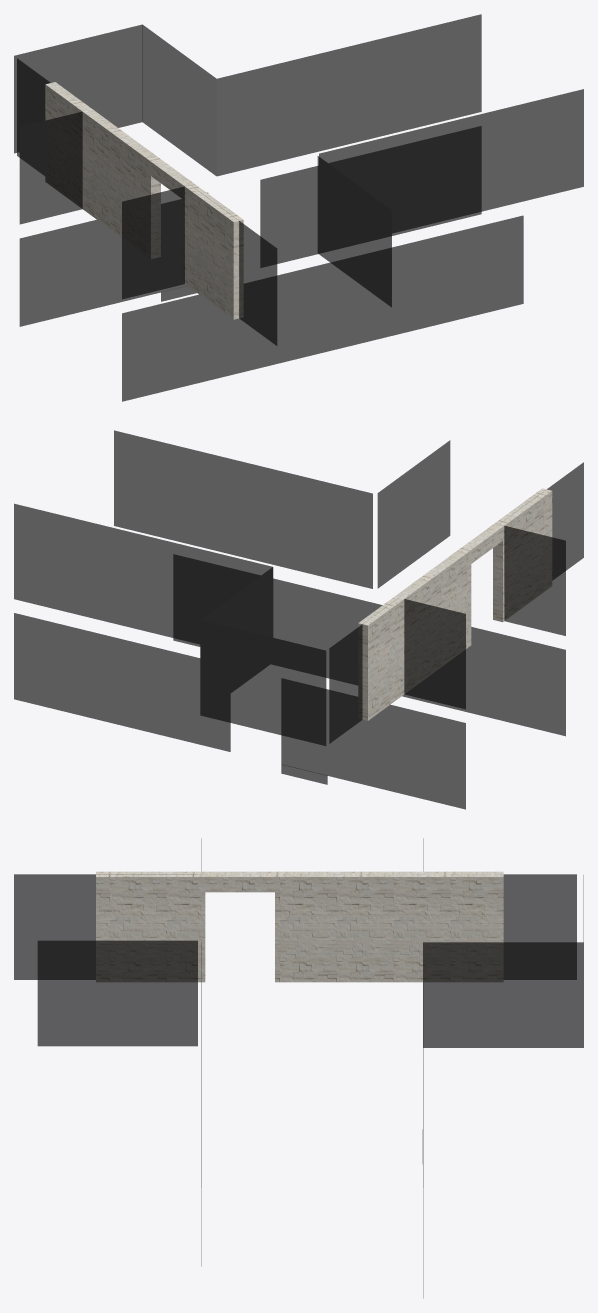
File: windows.glb
3 views of the same model, one above another, from view 1: azimuth 30°, elevation 25°; view 2: azimuth 150°, elevation 25°; view 3: azimuth 270°, elevation 25° (orthographic). The views are drawn at different scales.
Visible parts, largest first — view 1: Windows; view 2: Windows; view 3: Windows.
Boxes of the visible parts, bbox=[...] form: Windows: bbox=[14, 14, 583, 401]; Windows: bbox=[14, 430, 583, 809]; Windows: bbox=[14, 839, 583, 1297].
Size of the model in its own units: 13 by 5.63 by 12.84.
2 materials, 1 textured.
